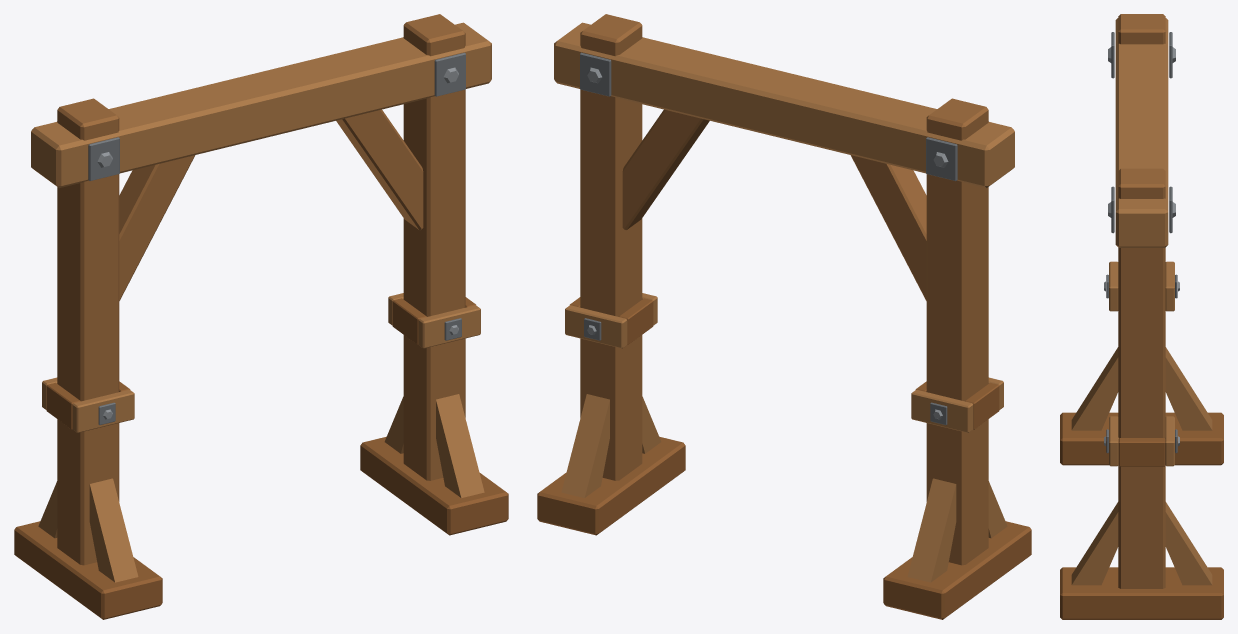
Rendered from Timber Support Frame.glb.
3 renders of one model, left to right at view 1: azimuth 30°, elevation 25°; view 2: azimuth 150°, elevation 25°; view 3: azimuth 270°, elevation 25°, orthographic. The views are drawn at different scales.
Visible parts, largest first — view 1: Timber Support Frame.Static; view 2: Timber Support Frame.Static; view 3: Timber Support Frame.Static.
Boxes of the visible parts, left/top/right/bottom form: Timber Support Frame.Static: left=14, top=14, right=508, bottom=619; Timber Support Frame.Static: left=537, top=14, right=1031, bottom=619; Timber Support Frame.Static: left=1060, top=14, right=1223, bottom=619.
Bounding box in the file's own units: 2.62 × 2.7 × 0.93.
